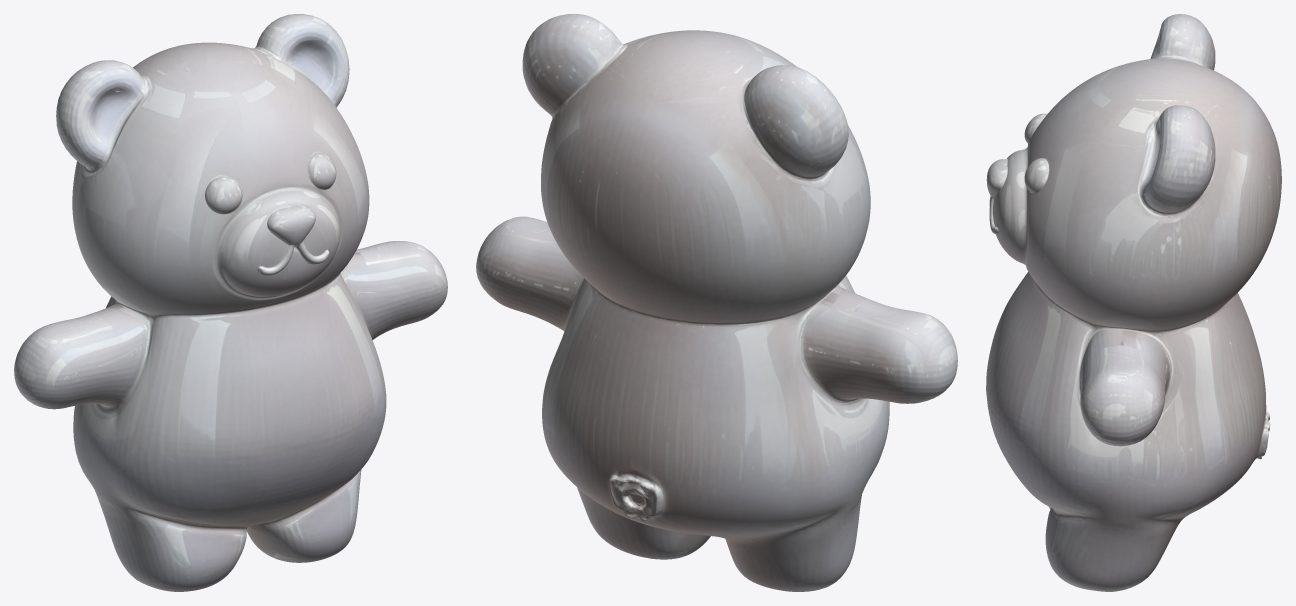
Rendered from jelly.fbx.
3 views of the same model, side by side, from view 1: azimuth 30°, elevation 25°; view 2: azimuth 150°, elevation 25°; view 3: azimuth 270°, elevation 25° (orthographic). The views are drawn at different scales.
Parts seen in each view (by area): view 1: texture_mapping; view 2: texture_mapping; view 3: texture_mapping.
Part boxes in pixels (x1,y1,x2,y2): texture_mapping: (14, 14, 447, 591); texture_mapping: (476, 14, 957, 591); texture_mapping: (986, 14, 1281, 591).
Bounding box in the file's own units: 0.8847 × 0.5486 × 0.9971.
1 material, 1 textured.
